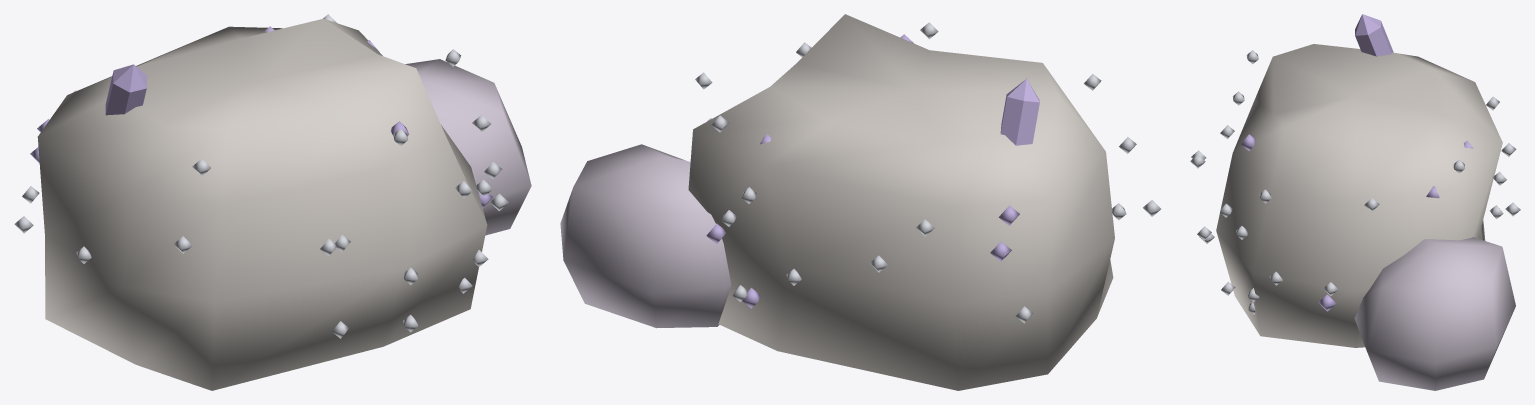
File: starlight_pool_rim_stone_b.gltf
3 renders of one model, left to right at view 1: azimuth 30°, elevation 25°; view 2: azimuth 150°, elevation 25°; view 3: azimuth 270°, elevation 25°, orthographic. The views are drawn at different scales.
Parts seen in each view (by area): view 1: starlight_pool_rim_stone_b; view 2: starlight_pool_rim_stone_b; view 3: starlight_pool_rim_stone_b.
Boxes of the visible parts, x1,y1,x2,y2 form: starlight_pool_rim_stone_b: (14, 14, 531, 390); starlight_pool_rim_stone_b: (560, 14, 1160, 390); starlight_pool_rim_stone_b: (1190, 14, 1520, 390).
Size of what is drawn, in the model's own units: 2.37 by 1.12 by 1.56.
